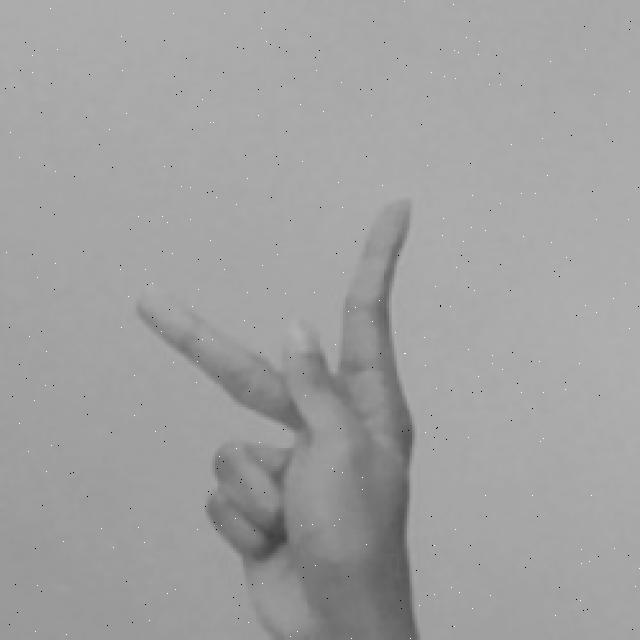K: (129, 189, 431, 640)
